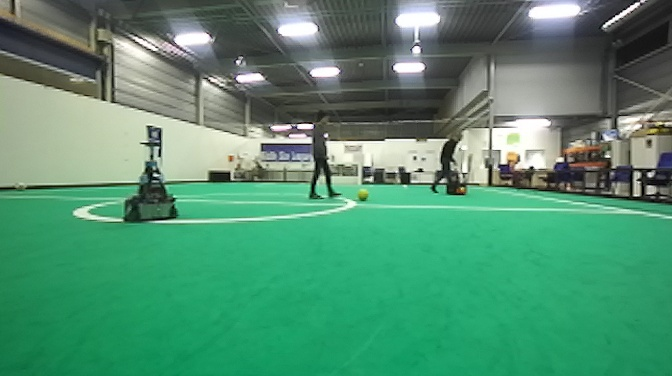ball: (353, 186, 371, 204), (12, 179, 27, 195), (459, 184, 469, 197)
goalpost: (357, 161, 362, 184)
human: (307, 110, 343, 202), (426, 128, 466, 195)
robot: (119, 136, 181, 226), (446, 164, 467, 195)
